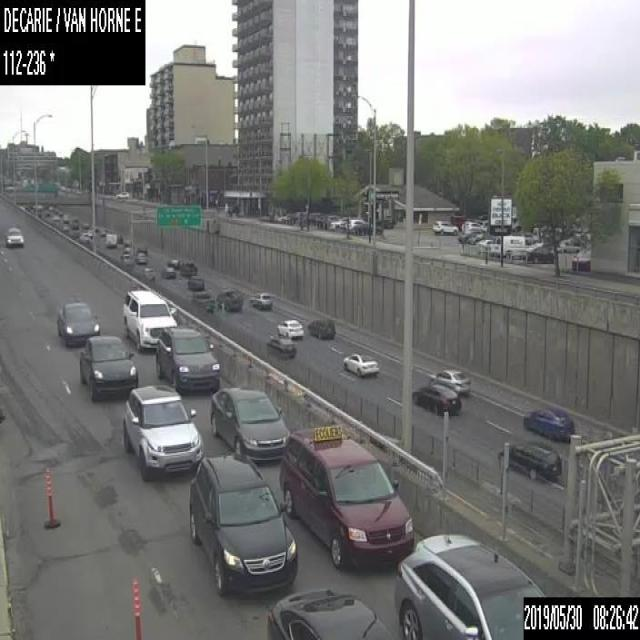construction: (44, 468, 60, 528), (131, 574, 143, 638)
vehicle: (280, 421, 410, 570), (393, 532, 546, 639), (188, 452, 296, 594), (122, 384, 202, 479), (265, 585, 400, 639), (210, 386, 290, 465), (156, 325, 219, 392), (79, 336, 138, 398), (122, 288, 177, 351), (509, 439, 563, 481), (56, 299, 99, 346), (522, 402, 574, 438), (412, 384, 459, 414), (428, 367, 470, 393), (342, 349, 378, 376), (491, 234, 524, 255), (307, 317, 334, 339), (522, 243, 553, 262), (276, 318, 303, 339), (267, 336, 294, 357), (216, 288, 241, 310), (192, 290, 214, 314), (248, 292, 271, 310), (4, 226, 22, 246), (432, 220, 457, 234), (556, 239, 578, 251), (186, 274, 202, 290), (180, 260, 196, 276), (344, 218, 365, 230), (462, 220, 479, 232), (104, 232, 116, 247), (160, 266, 174, 277), (143, 268, 154, 280), (135, 252, 146, 264), (79, 231, 90, 243), (458, 231, 469, 241), (136, 244, 147, 254), (168, 259, 179, 268), (116, 190, 128, 198), (115, 234, 122, 244), (62, 214, 69, 224), (500, 448, 505, 461), (121, 254, 128, 262), (87, 229, 94, 237), (81, 220, 88, 228), (100, 228, 107, 236), (123, 239, 130, 246), (72, 222, 78, 230), (123, 247, 129, 253)
